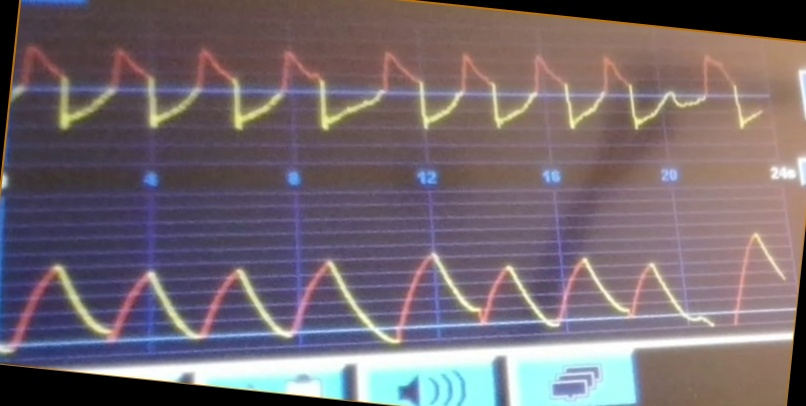Ineffective_effort Flow: (17, 41, 763, 157)
Ineffective_effort Volume: (5, 227, 782, 342)
